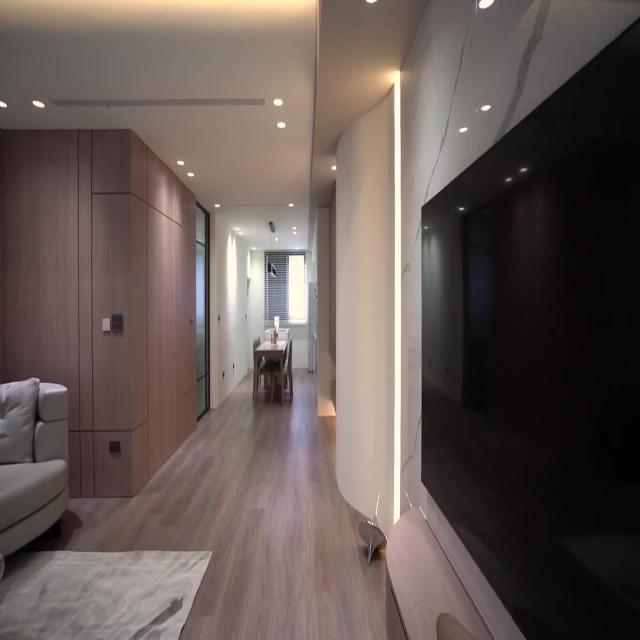obstacle: (0, 377, 70, 558), (252, 339, 288, 405), (307, 281, 317, 372)
